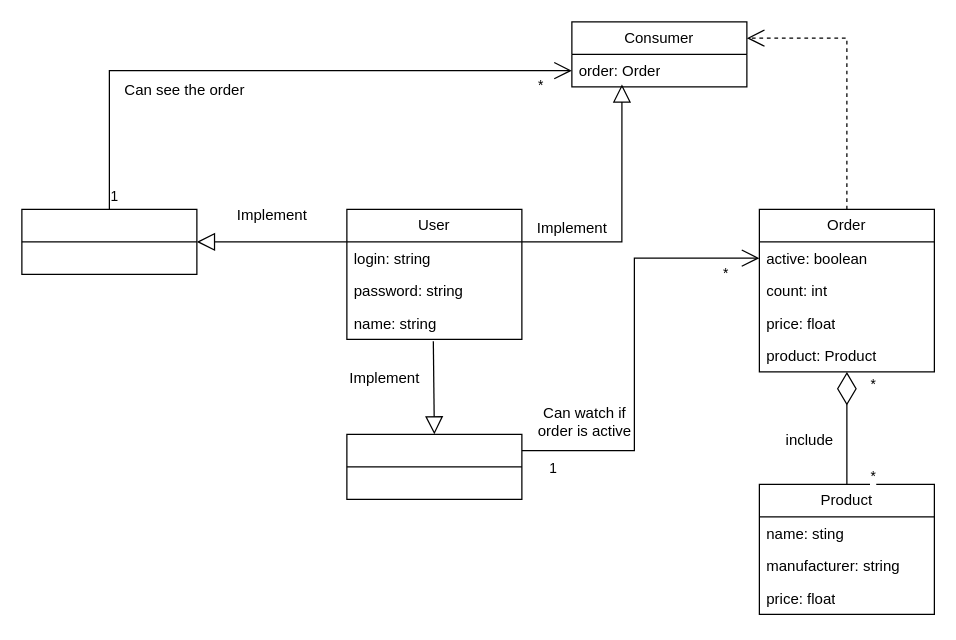
Some shapes in this 956 by 640 pixel diagram are drawn without their labels. The shapes that lost their labels are listed below. From the top down, each one's centre as x and y in pixels, then its label:
At point (109, 241): "Seller".
At point (434, 466): "Courier".
